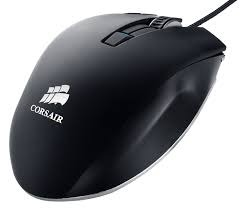mouse: (14, 14, 227, 202)
